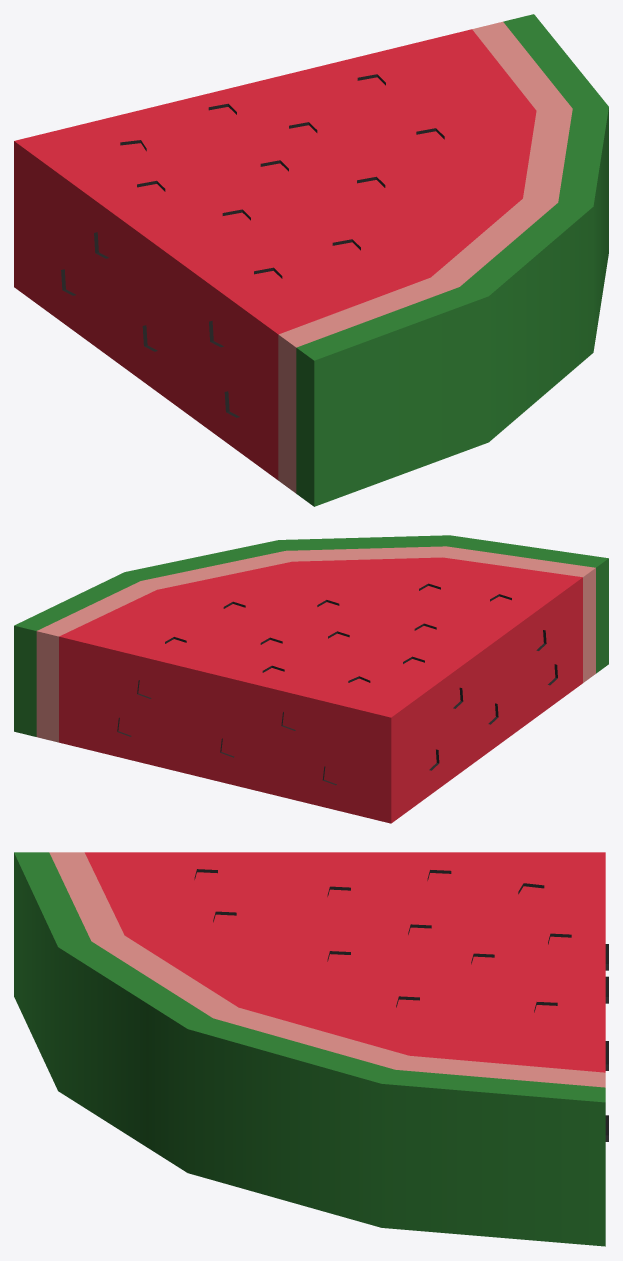
The model's file is melon slice.fbx.
The picture shows the model from 3 angles, top to bottom: view 1: azimuth 30°, elevation 25°; view 2: azimuth 150°, elevation 25°; view 3: azimuth 270°, elevation 25°; orthographic projection. The views are drawn at different scales.
Parts seen in each view (by area): view 1: Cylinder; view 2: Cylinder; view 3: Cylinder.
Boxes of the visible parts, x1,y1,x2,y2 form: Cylinder: [14, 14, 608, 506]; Cylinder: [14, 535, 608, 823]; Cylinder: [14, 852, 608, 1246].
Bounding box in the file's own units: 59.11 × 16.59 × 59.01.
